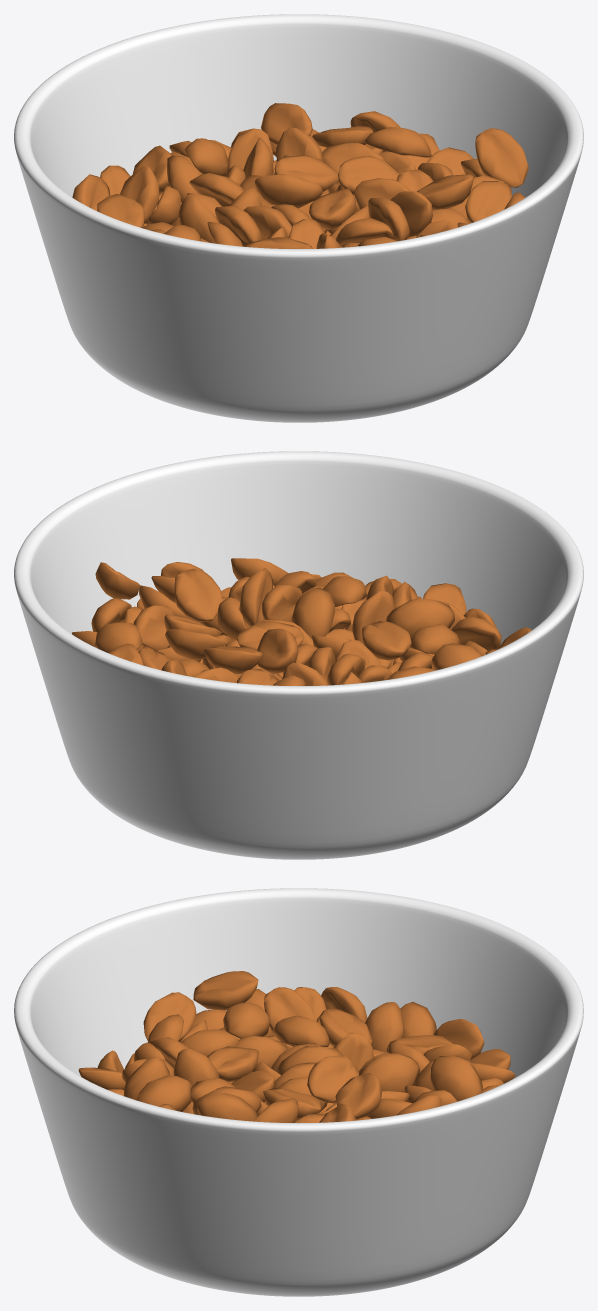
The model's file is nutsv2.fbx.
3 renders of one model, top to bottom at view 1: azimuth 30°, elevation 25°; view 2: azimuth 150°, elevation 25°; view 3: azimuth 270°, elevation 25°, orthographic.
Parts seen in each view (by area): view 1: Bowl, Nuts; view 2: Bowl, Nuts; view 3: Bowl, Nuts.
Boxes of the visible parts, <box> form: Bowl: <box>14,14,583,422</box>; Nuts: <box>72,103,528,248</box>; Bowl: <box>14,451,583,859</box>; Nuts: <box>72,558,531,685</box>; Bowl: <box>14,888,583,1296</box>; Nuts: <box>78,971,515,1122</box>.
Bounding box in the file's own units: 11.92 × 4.81 × 11.92.
